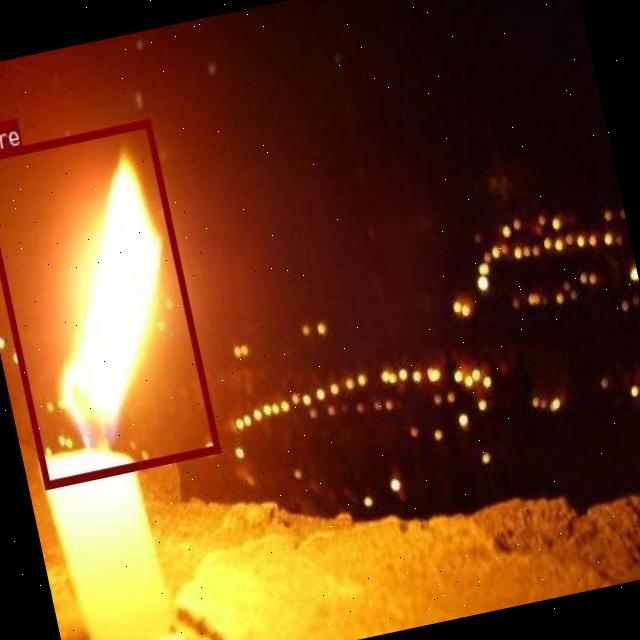fire: (0, 117, 220, 488)
